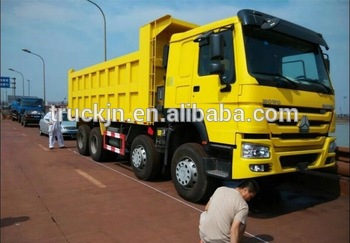truck: (67, 8, 336, 204)
